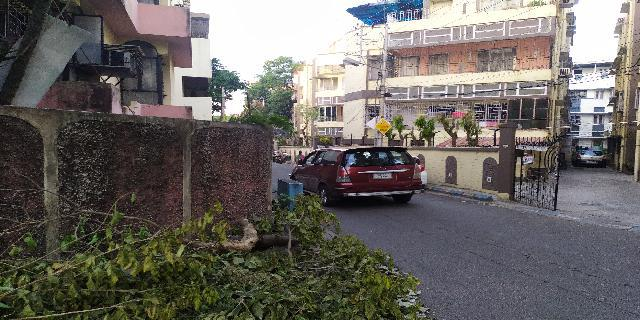Car: (285, 146, 426, 210)
